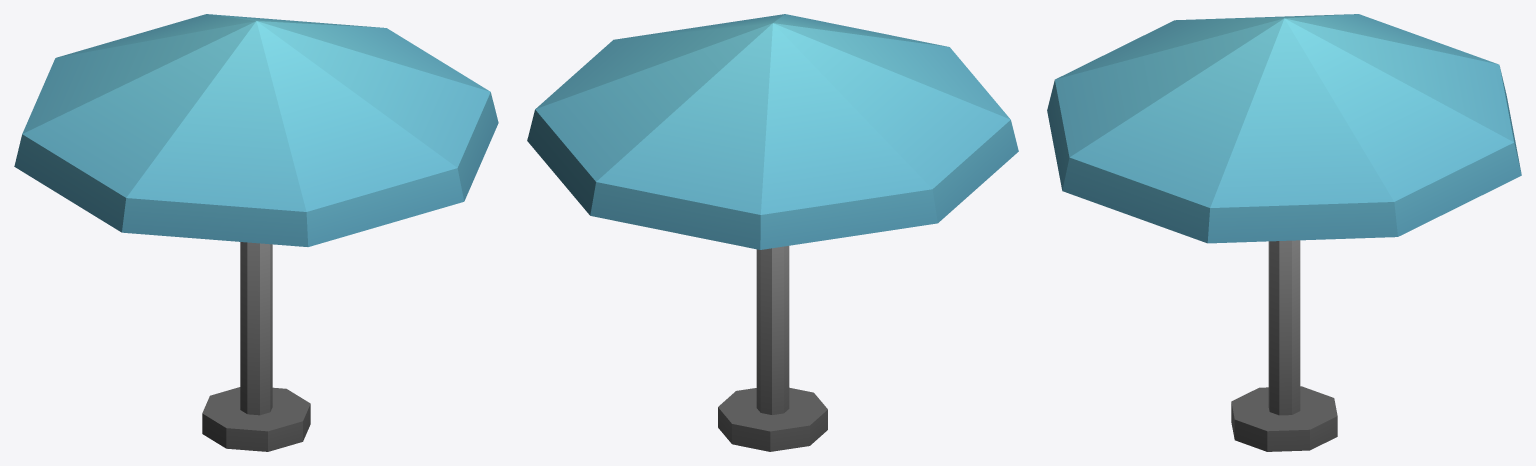
The model's file is blue umbrella.fbx.
3 views of the same model, side by side, from view 1: azimuth 30°, elevation 25°; view 2: azimuth 150°, elevation 25°; view 3: azimuth 270°, elevation 25° (orthographic).
Parts seen in each view (by area): view 1: blue_umbrella; view 2: blue_umbrella; view 3: blue_umbrella.
Part boxes in pixels (x1,y1,x2,y2): blue_umbrella: [14, 14, 498, 451]; blue_umbrella: [527, 14, 1018, 451]; blue_umbrella: [1047, 14, 1521, 451].
Size of the model in its own units: 303 by 290 by 303.
1 material, 1 textured.
